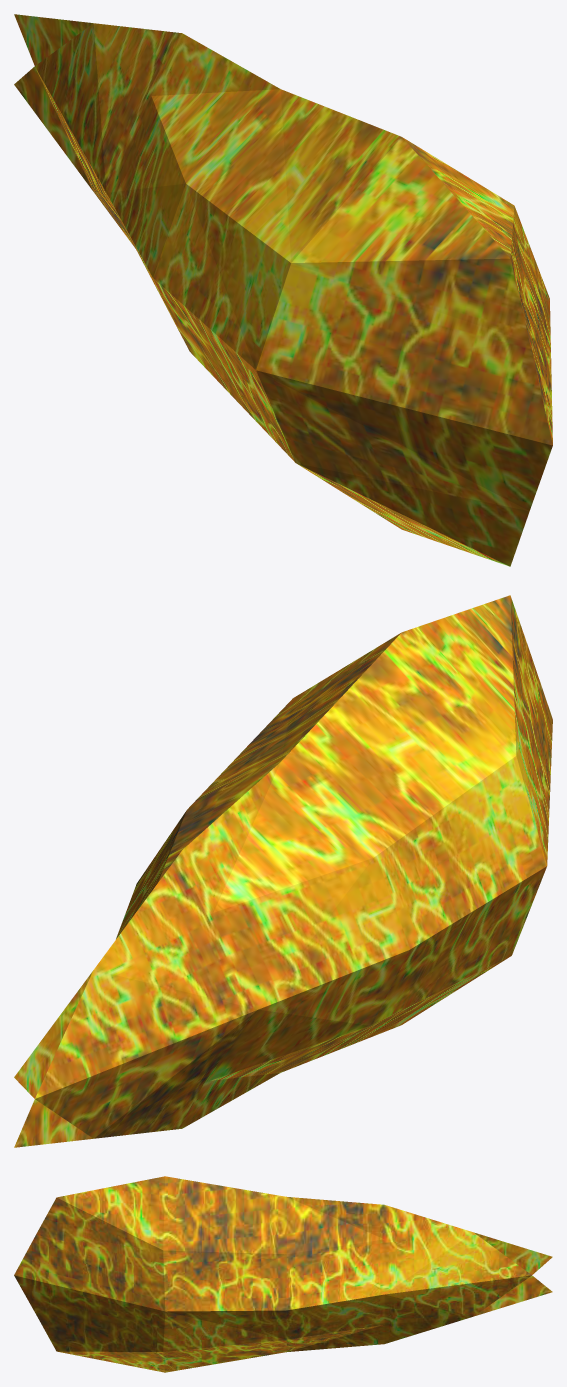
The model's file is FireBall2.fbx.
3 views of the same model, one above another, from view 1: azimuth 30°, elevation 25°; view 2: azimuth 150°, elevation 25°; view 3: azimuth 270°, elevation 25° (orthographic). The views are drawn at different scales.
Visible parts, largest first — view 1: FireBall; view 2: FireBall; view 3: FireBall.
Boxes of the visible parts, <box> form: FireBall: <box>14,14,552,566</box>; FireBall: <box>14,595,552,1147</box>; FireBall: <box>14,1176,552,1372</box>.
Bounding box in the file's own units: 28.02 × 35.8 × 89.04.
1 material, 1 textured.
